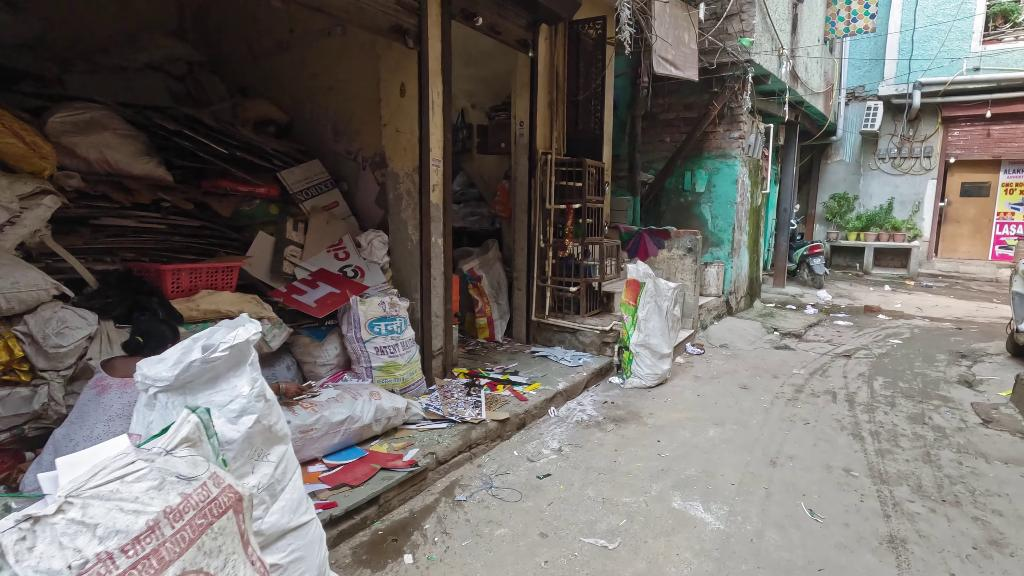garbage: (0, 304, 333, 576), (625, 255, 675, 406), (688, 337, 703, 365), (804, 303, 823, 324), (817, 283, 832, 307)
